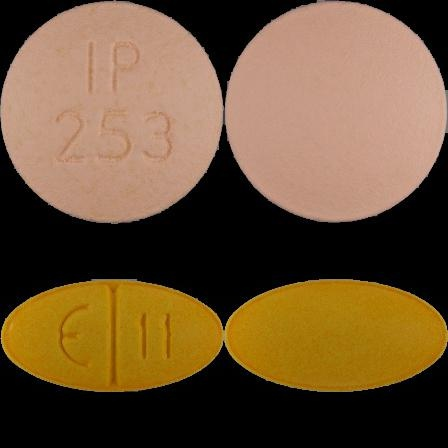33261-099: (0, 0, 224, 224)
